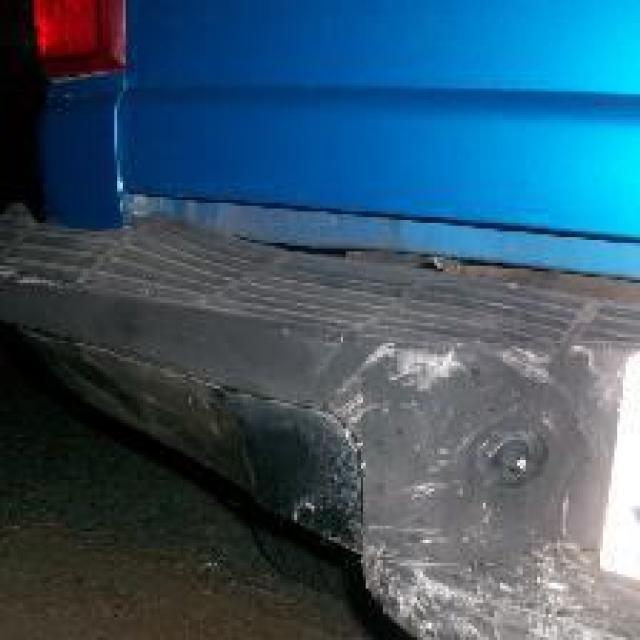damaged: (334, 346, 637, 638)
